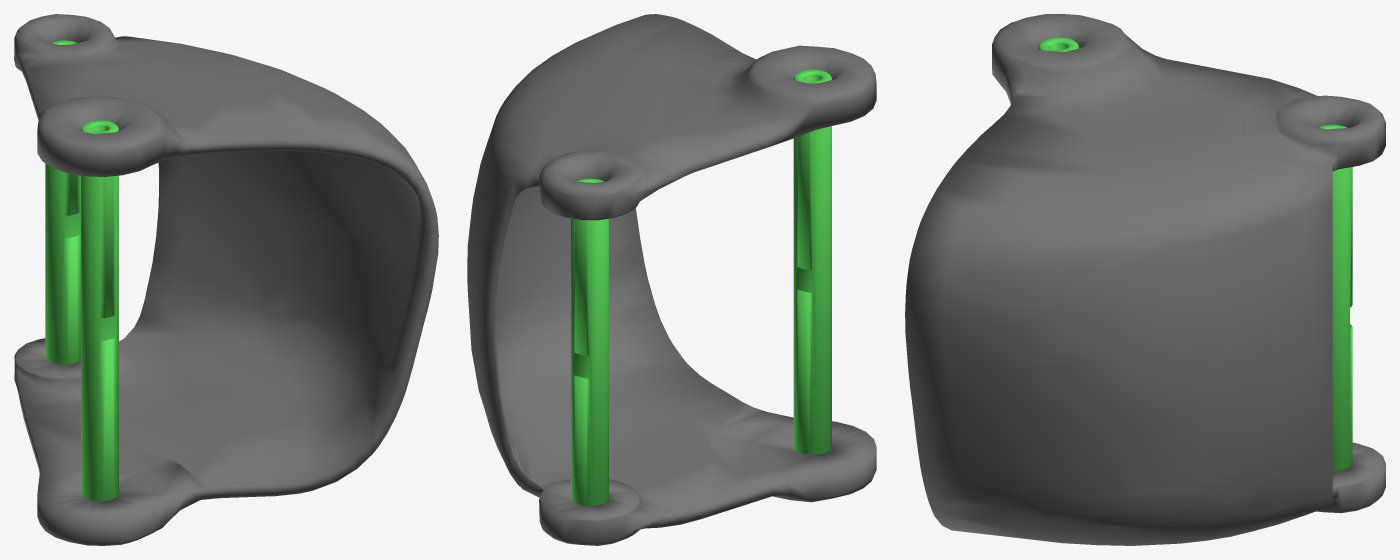
The model's file is left_knee_shell.obj.
The picture shows the model from 3 angles, left to right: view 1: azimuth 30°, elevation 25°; view 2: azimuth 150°, elevation 25°; view 3: azimuth 270°, elevation 25°; orthographic projection. The views are drawn at different scales.
Size of the model in its own units: 0.1603 by 0.176 by 0.1783.
